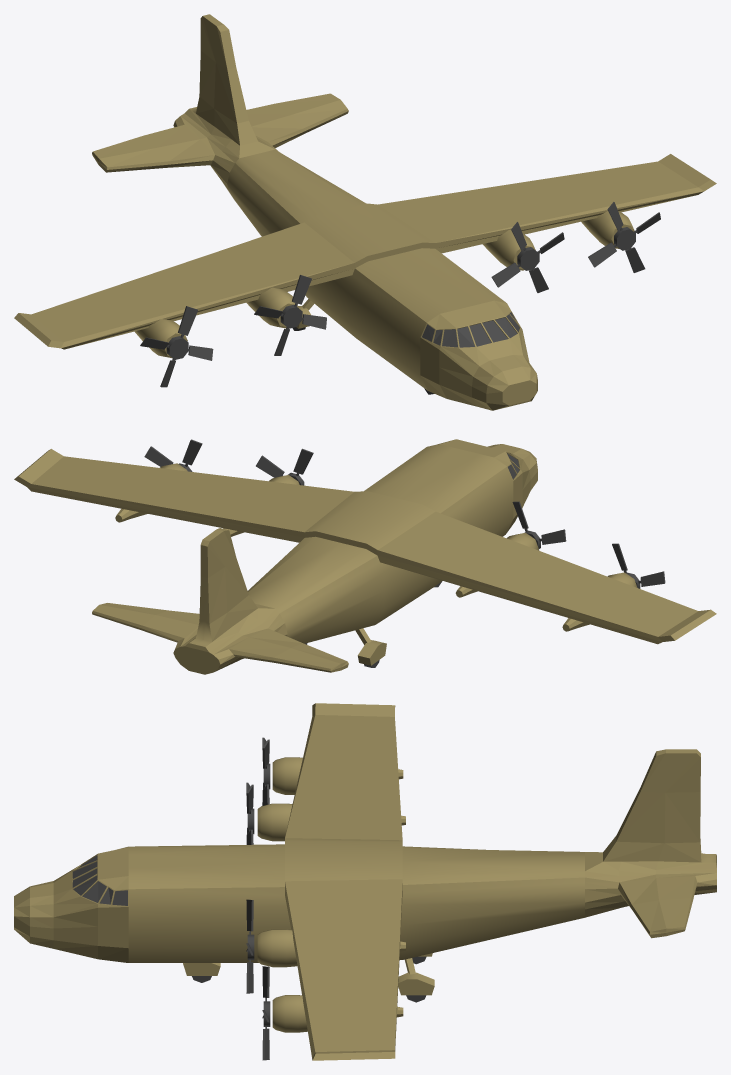
The model's file is testmodel.fbx.
3 views of the same model, one above another, from view 1: azimuth 30°, elevation 25°; view 2: azimuth 150°, elevation 25°; view 3: azimuth 270°, elevation 25° (orthographic). The views are drawn at different scales.
Visible parts, largest first — view 1: polySurface8, polySurface10, group1, Cylinder142, Cylinder140, Cylinder144, Cylinder141; view 2: polySurface8, polySurface10, polySurface9, Cylinder140, Cylinder141, Cylinder144, Cylinder142; view 3: polySurface8, polySurface10, polySurface9, group1, Cylinder140, Cylinder141.
Part boxes in pixels (x1,y1,x2,y2): polySurface8: (14, 14, 716, 410); polySurface10: (134, 211, 634, 358); group1: (422, 312, 519, 347); Cylinder142: (140, 306, 213, 387); Cylinder140: (491, 222, 564, 292); Cylinder144: (254, 275, 326, 355); Cylinder141: (588, 202, 660, 272); polySurface8: (14, 439, 716, 674); polySurface10: (115, 463, 637, 631); polySurface9: (305, 581, 441, 667); Cylinder140: (256, 448, 313, 485); Cylinder141: (144, 439, 202, 471); Cylinder144: (512, 501, 566, 548); Cylinder142: (612, 543, 665, 588); polySurface8: (14, 703, 716, 1060); polySurface10: (257, 757, 405, 1032); polySurface9: (183, 953, 434, 1002); group1: (72, 855, 127, 905); Cylinder140: (246, 899, 254, 993); Cylinder141: (262, 966, 270, 1060).
Bounding box in the file's own units: 4021 × 1218 × 3361.
